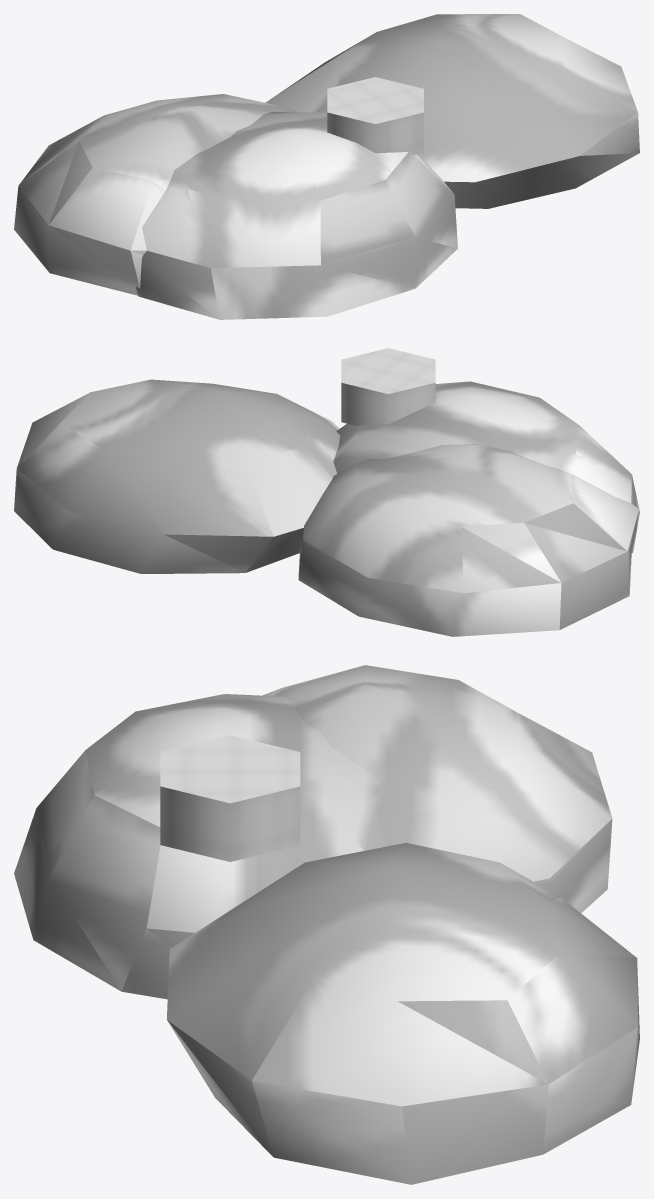
File: food_psychoid.obj
3 renders of one model, top to bottom at view 1: azimuth 30°, elevation 25°; view 2: azimuth 150°, elevation 25°; view 3: azimuth 270°, elevation 25°, orthographic. The views are drawn at different scales.
Parts seen in each view (by area): view 1: part_060_crop_pale, part_000_crop_pale, part_030_crop_pale, part_090_string; view 2: part_030_crop_pale, part_000_crop_pale, part_060_crop_pale, part_090_string; view 3: part_000_crop_pale, part_060_crop_pale, part_030_crop_pale, part_090_string.
Part boxes in pixels (left/top/right/bottom): part_060_crop_pale: left=136, top=112, right=457, bottom=319; part_000_crop_pale: left=265, top=14, right=639, bottom=208; part_030_crop_pale: left=14, top=94, right=297, bottom=295; part_090_string: left=327, top=77, right=423, bottom=155; part_030_crop_pale: left=298, top=444, right=638, bottom=636; part_000_crop_pale: left=14, top=379, right=339, bottom=573; part_060_crop_pale: left=333, top=381, right=639, bottom=552; part_090_string: left=341, top=348, right=435, bottom=426; part_000_crop_pale: left=167, top=843, right=639, bottom=1184; part_060_crop_pale: left=14, top=694, right=386, bottom=999; part_030_crop_pale: left=262, top=665, right=612, bottom=912; part_090_string: left=160, top=735, right=300, bottom=861.
Bounding box in the file's own units: 0.6249 × 0.13 × 0.3867.
